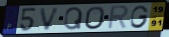5: (19, 6, 39, 33)
G: (130, 4, 151, 29)
O: (84, 6, 106, 31)
Q: (63, 6, 84, 31)
R: (105, 5, 130, 31)
V: (39, 6, 62, 32)
